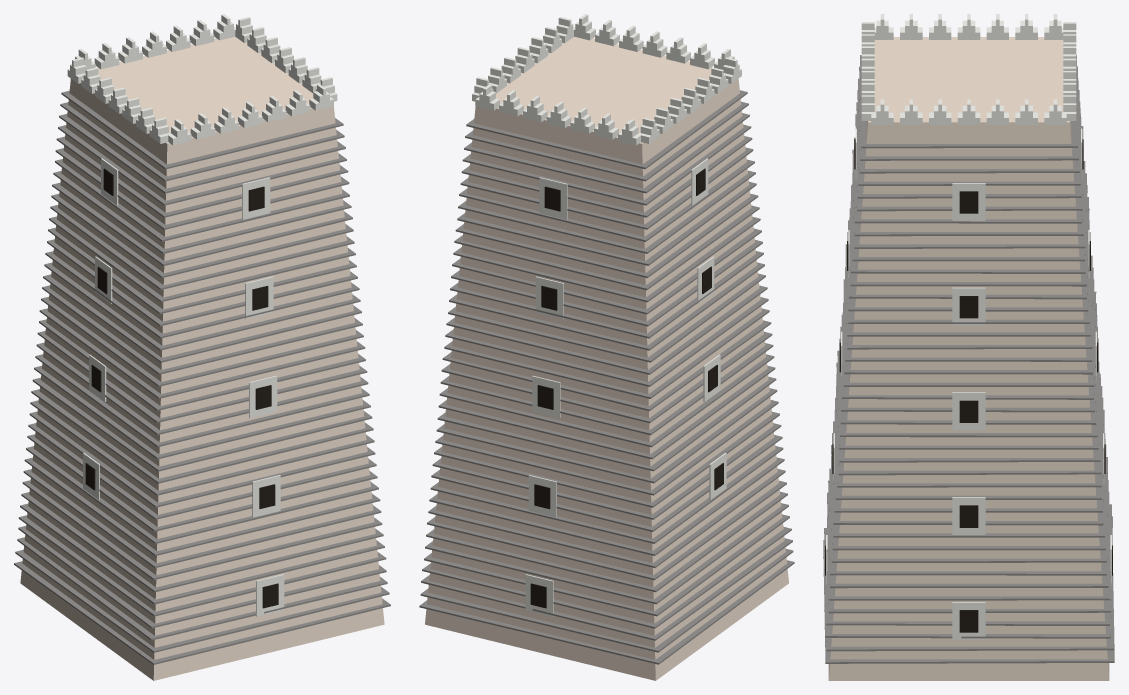
Rendered from SM_AsiriMudTower_B.fbx.
3 renders of one model, left to right at view 1: azimuth 30°, elevation 25°; view 2: azimuth 150°, elevation 25°; view 3: azimuth 270°, elevation 25°, orthographic. The views are drawn at different scales.
Visible parts, largest first — view 1: SM_AsiriMudTower_B; view 2: SM_AsiriMudTower_B; view 3: SM_AsiriMudTower_B.
Boxes of the visible parts, x1,y1,x2,y2 form: SM_AsiriMudTower_B: [14, 14, 390, 680]; SM_AsiriMudTower_B: [419, 14, 794, 680]; SM_AsiriMudTower_B: [823, 14, 1114, 680].
Size of the model in its own units: 780 by 1660 by 780.
